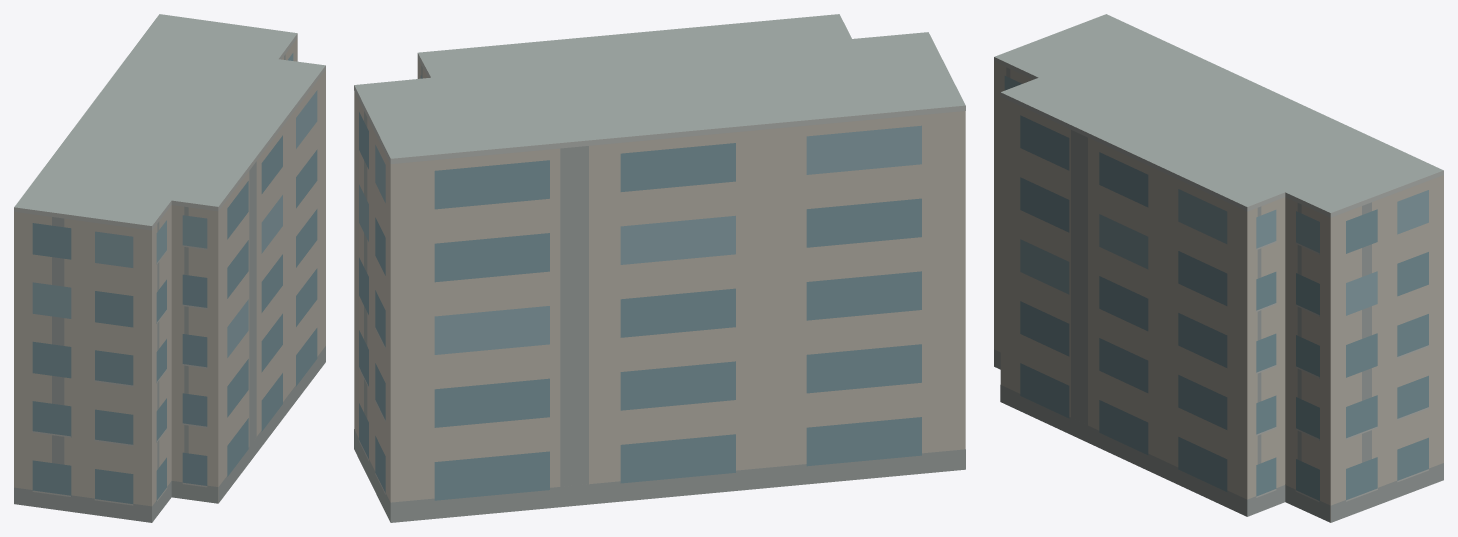
File: survey-upis-32856435.glb
3 renders of one model, left to right at view 1: azimuth 30°, elevation 25°; view 2: azimuth 150°, elevation 25°; view 3: azimuth 270°, elevation 25°, orthographic. The views are drawn at different scales.
Parts seen in each view (by area): view 1: survey-upis-32856435.tmp; view 2: survey-upis-32856435.tmp; view 3: survey-upis-32856435.tmp.
Part boxes in pixels (left/top/right/bottom): survey-upis-32856435.tmp: left=14, top=14, right=325, bottom=522; survey-upis-32856435.tmp: left=354, top=14, right=965, bottom=522; survey-upis-32856435.tmp: left=994, top=14, right=1443, bottom=522.
Size of the model in its own units: 22.62 by 16.4 by 21.59.
